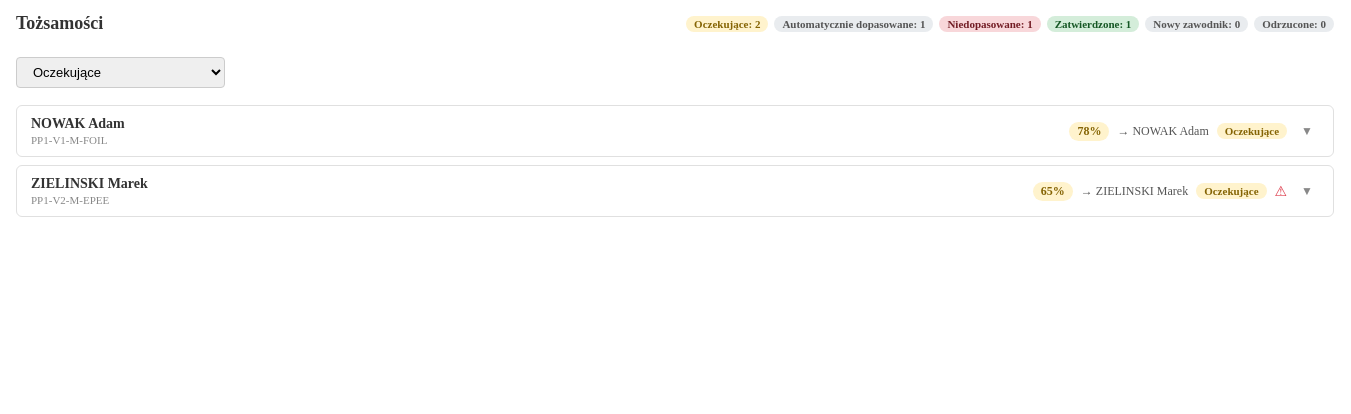
Test: IdentityManager (T9.7) › confidence color coding
The image size is (1351, 414).
Switch to ALL to see all candidates
Select "Wszystkie" in the dropdown: (120, 72) [16,57,225,88]
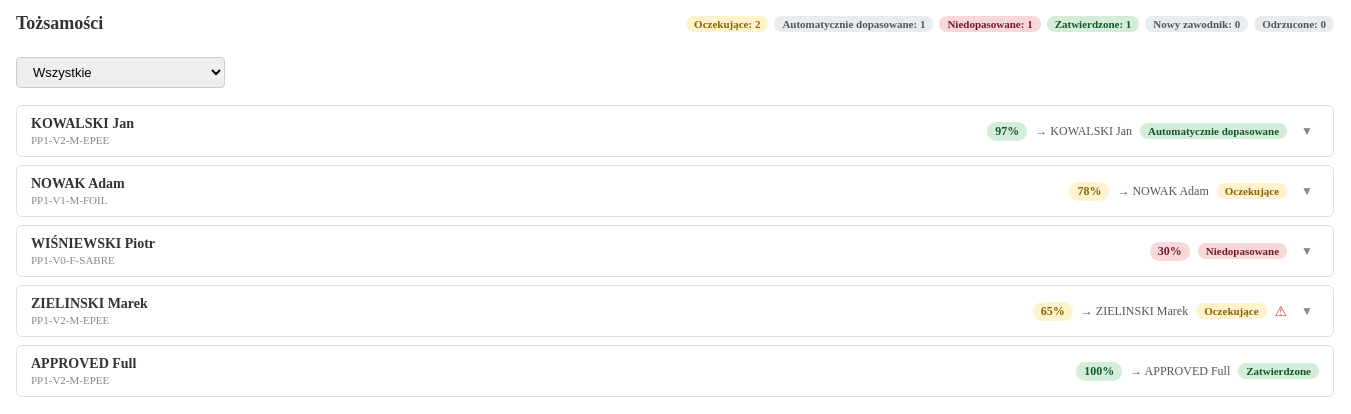
Expected: the text "78%" is shown, [1069,182,1109,200]
Expected: the text "97%" is shown, [987,122,1027,140]
Expected: the text "30%" is shown, [1150,242,1190,260]
